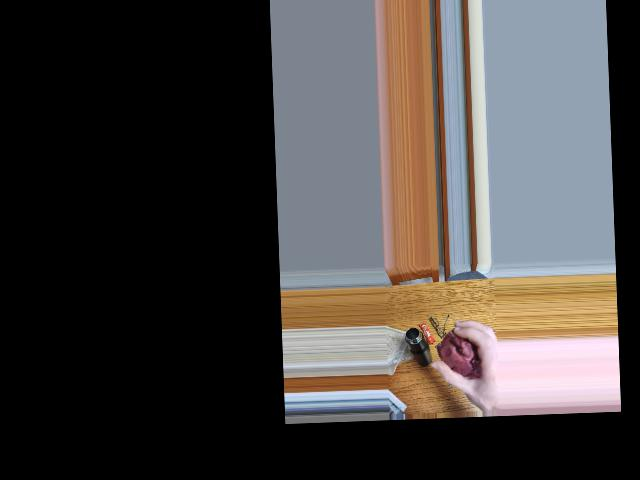onion: (447, 334, 480, 380)
